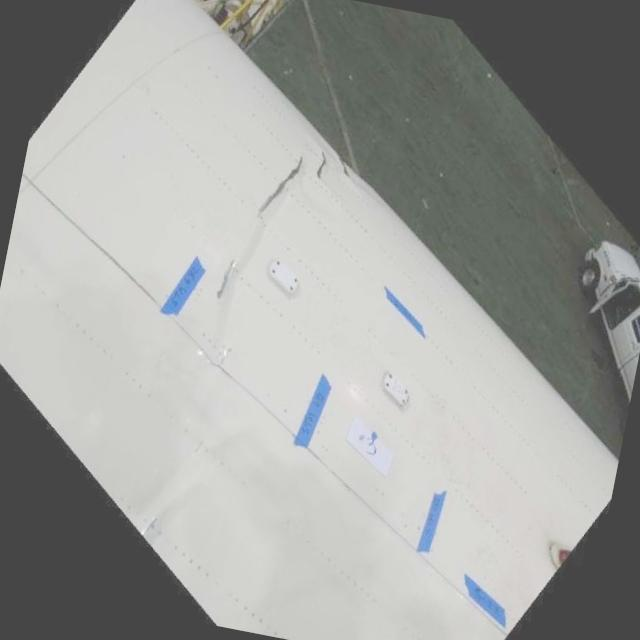crack: (254, 150, 304, 229), (211, 254, 239, 308), (314, 148, 332, 183)
